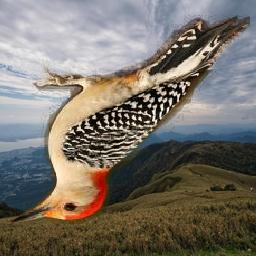Woodpecker: (12, 14, 251, 225)
